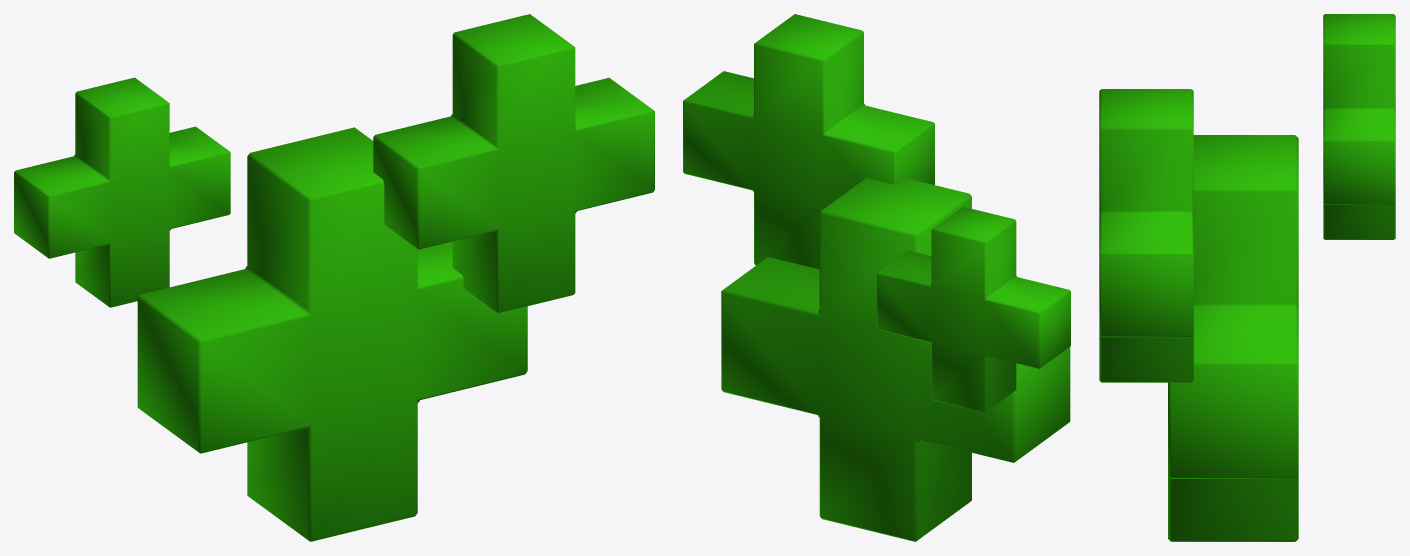
Rendered from Item_HP_B.fbx.
3 renders of one model, left to right at view 1: azimuth 30°, elevation 25°; view 2: azimuth 150°, elevation 25°; view 3: azimuth 270°, elevation 25°, orthographic. The views are drawn at different scales.
Parts seen in each view (by area): view 1: heart_003; view 2: heart_003; view 3: heart_003.
Boxes of the visible parts, <box> form: heart_003: <box>14,14,654,541</box>; heart_003: <box>683,14,1070,541</box>; heart_003: <box>1099,14,1395,541</box>.
Bounding box in the file's own units: 113 × 101 × 56.69.
